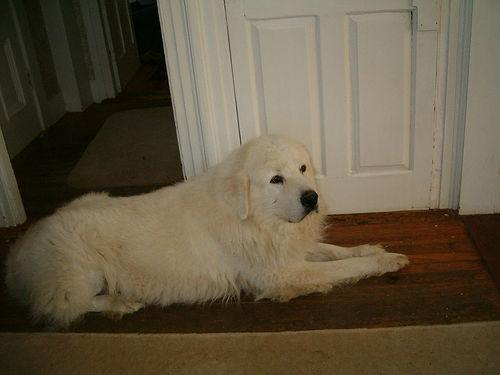dog-great_pyrenees: (229, 133, 316, 222)
